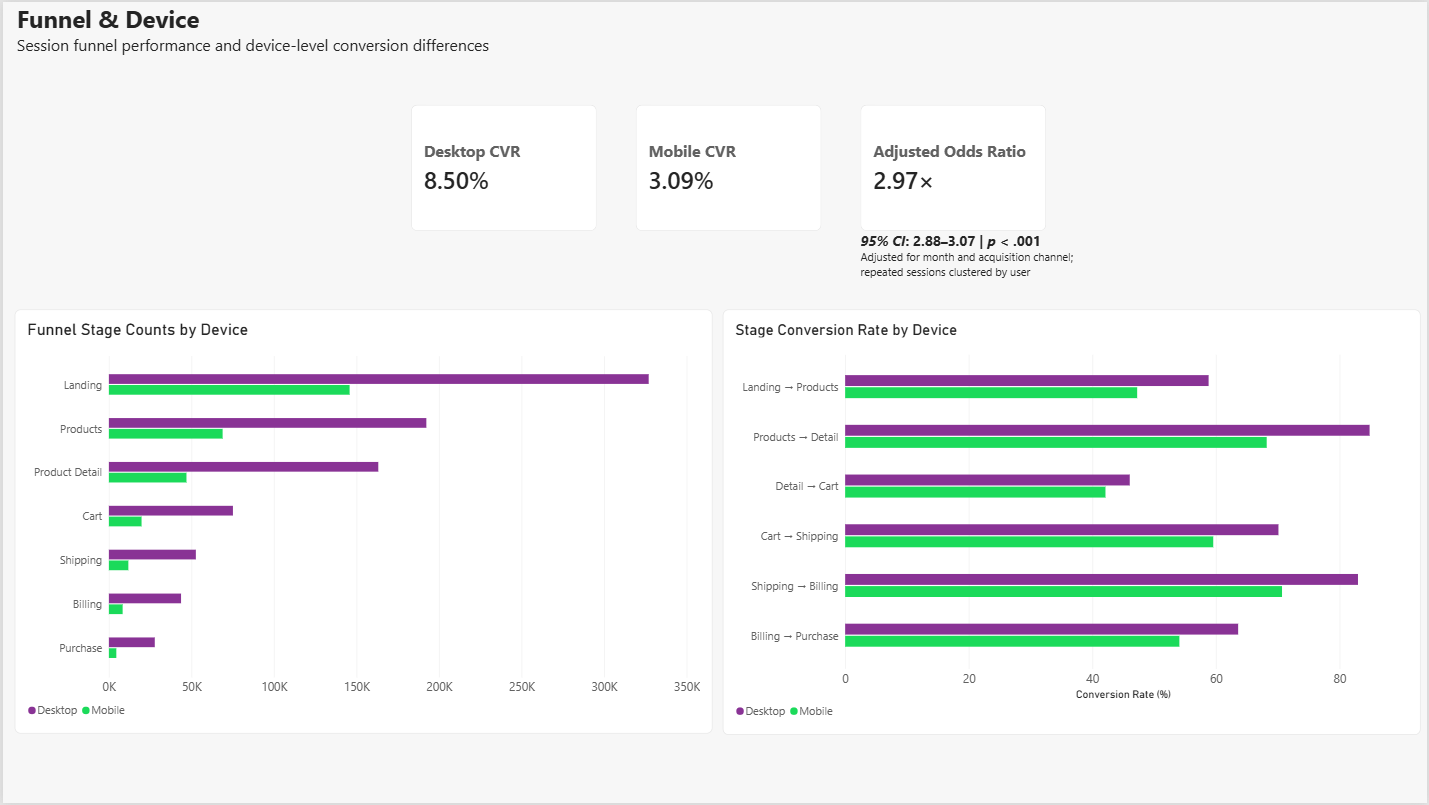

This screenshot's page, from the dashboard's own definition file:
{"tool":"powerbi","page":{"name":"Funnel & Device","canvas":[1920,1080],"ordinal":1},"visuals":[{"type":"clusteredBarChart","title":"Funnel Stage Counts by Device","fields":{"Category":["analytics funnel_stages.stage"],"Series":["analytics funnel_stages.device_type"],"Y":["Sum(analytics funnel_stages.sessions)"]},"box":[15.4,413.7,940.6,571.9],"z":0},{"type":"clusteredBarChart","title":"Stage Conversion Rate by Device","fields":{"Category":["analytics funnel_rates.transition"],"Series":["analytics funnel_rates.device_type"],"Y":["Sum(analytics funnel_rates.conversion_rate)"]},"box":[970.1,413.7,940.6,573.4],"z":1000},{"type":"cardVisual","fields":{"Data":["analytics funnel_by_device.Adjusted OR Display"]},"box":[1155.3,138.3,250,170],"z":2000},{"type":"cardVisual","fields":{"Data":["analytics funnel_by_device.Desktop CVR Display"]},"box":[550.6,138.3,250,170],"z":3000},{"type":"cardVisual","fields":{"Data":["analytics funnel_by_device.Mobile CVR Display"]},"box":[852.9,138.3,250,170],"z":4000},{"type":"textbox","box":[18.6,0,671,184.6],"z":5000},{"type":"textbox","box":[1155.3,308.6,290.6,137.5],"z":6000}]}

Visuals, with their boxes in screenshot pixels (x1, y1, x2, y2), scaled from the page's 1920x1080 canvas onto the 1429x805 screenshot:
"Funnel Stage Counts by Device" clusteredBarChart: (x1=11, y1=308, x2=712, y2=735)
"Stage Conversion Rate by Device" clusteredBarChart: (x1=722, y1=308, x2=1422, y2=736)
cardVisual - analytics funnel_by_device.Adjusted OR Display: (x1=860, y1=103, x2=1046, y2=230)
cardVisual - analytics funnel_by_device.Desktop CVR Display: (x1=410, y1=103, x2=596, y2=230)
cardVisual - analytics funnel_by_device.Mobile CVR Display: (x1=635, y1=103, x2=821, y2=230)
textbox: (x1=14, y1=0, x2=513, y2=138)
textbox: (x1=860, y1=230, x2=1076, y2=333)
